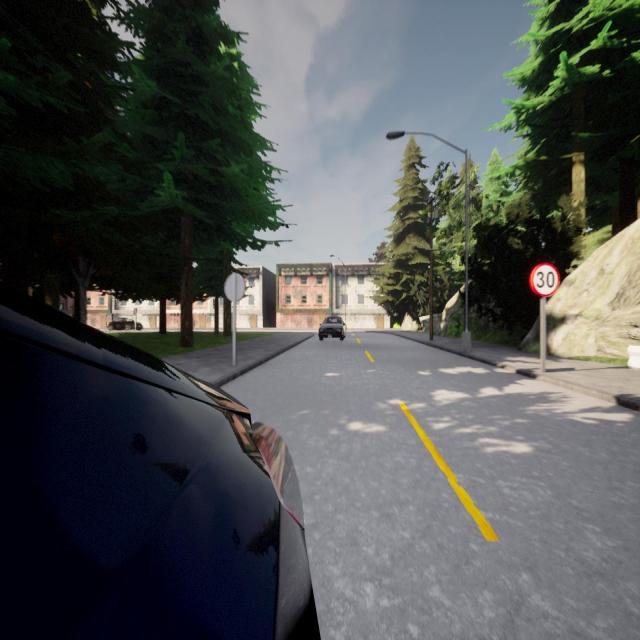Traffic_Signs: (528, 263, 560, 297), (223, 272, 246, 302), (133, 308, 138, 314)
Vehicle: (0, 287, 318, 639), (319, 316, 347, 340), (106, 316, 144, 332)
